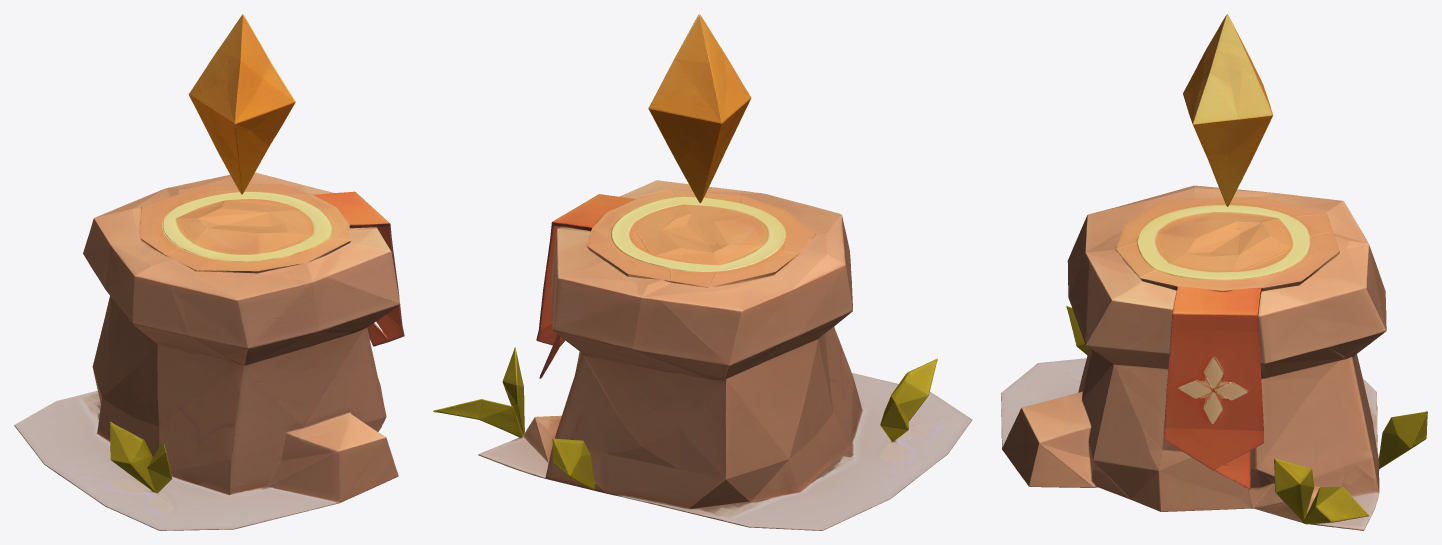
The model's file is KeepSakePedestalV2-v1.glb.
3 views of the same model, side by side, from view 1: azimuth 30°, elevation 25°; view 2: azimuth 150°, elevation 25°; view 3: azimuth 270°, elevation 25° (orthographic). The views are drawn at different scales.
Parts seen in each view (by area): view 1: tripo_node_a8496a83-891e-4e97-ae51-36ed0701e284; view 2: tripo_node_a8496a83-891e-4e97-ae51-36ed0701e284; view 3: tripo_node_a8496a83-891e-4e97-ae51-36ed0701e284.
Part boxes in pixels (x1,y1,x2,y2): tripo_node_a8496a83-891e-4e97-ae51-36ed0701e284: (14,14,404,530); tripo_node_a8496a83-891e-4e97-ae51-36ed0701e284: (433,14,972,530); tripo_node_a8496a83-891e-4e97-ae51-36ed0701e284: (1001,14,1427,530).
Bounding box in the file's own units: 0.9093 × 0.9433 × 0.8286.
Materials: 1 (1 with a texture image).
